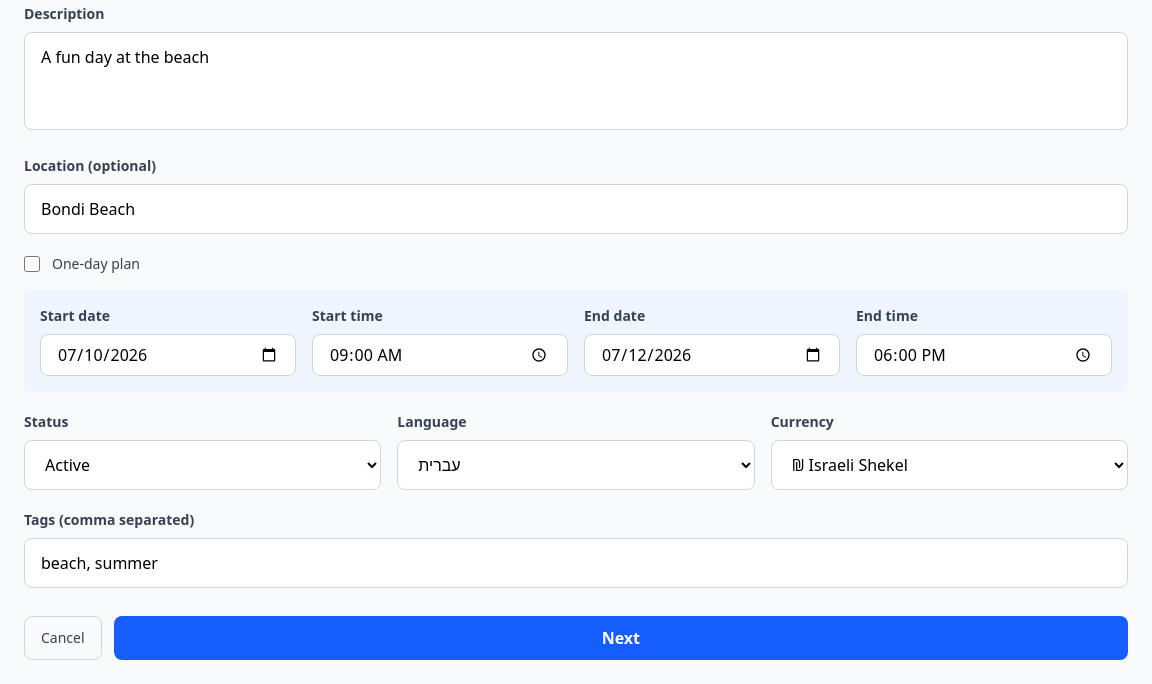
Test: EditPlanForm › Full submission flow › shows updating state on submit button
(page scrolled)
Click the button "Next" at x=621, y=638, box [114,616,1128,660]
(page scrolled)
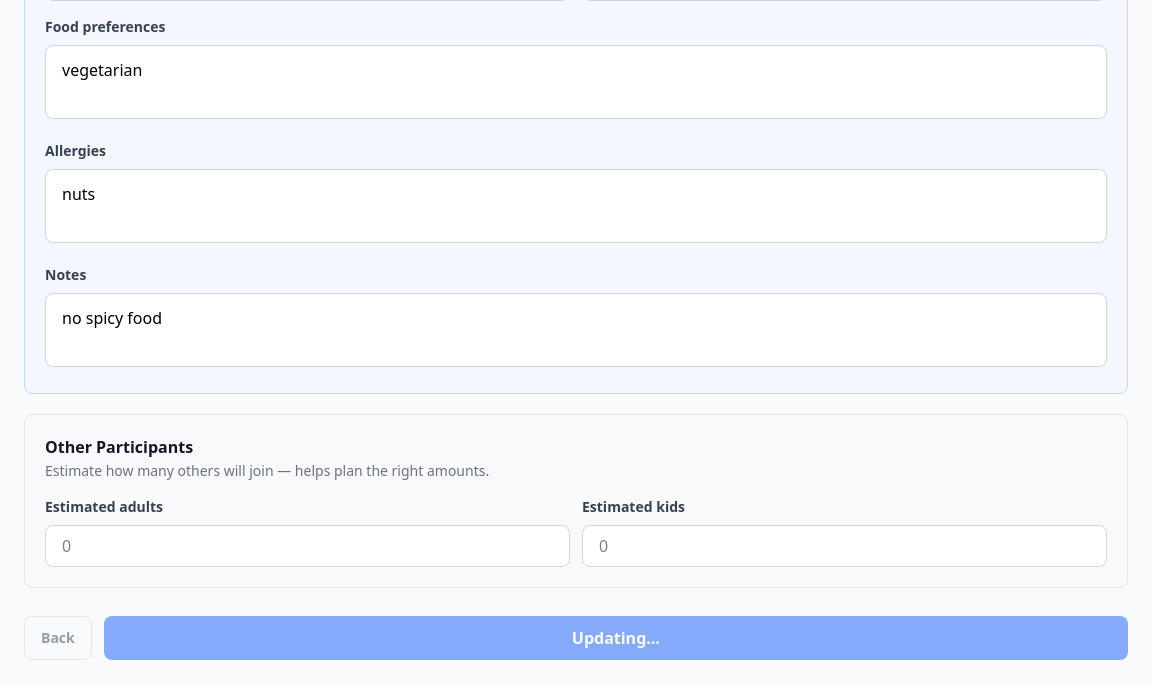
Expected: the button "Updating…" is disabled, [104,616,1128,660]
